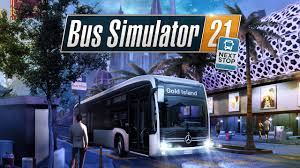bus: (71, 74, 210, 157)
